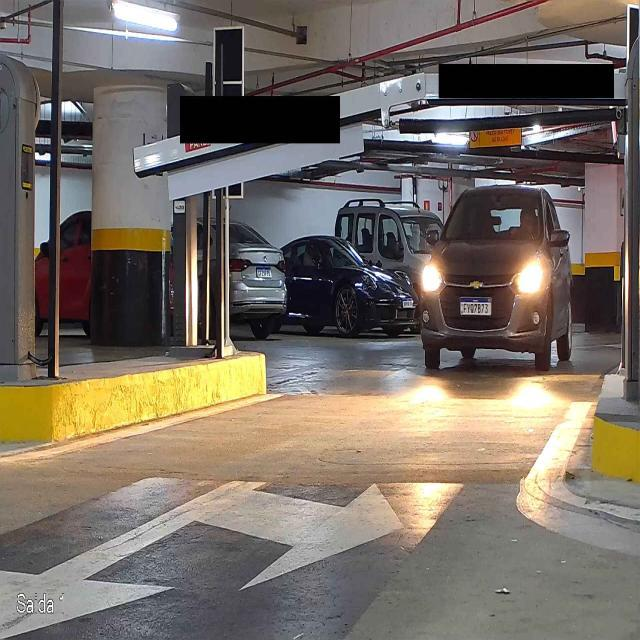mercosul_plate: (458, 295, 494, 317)
